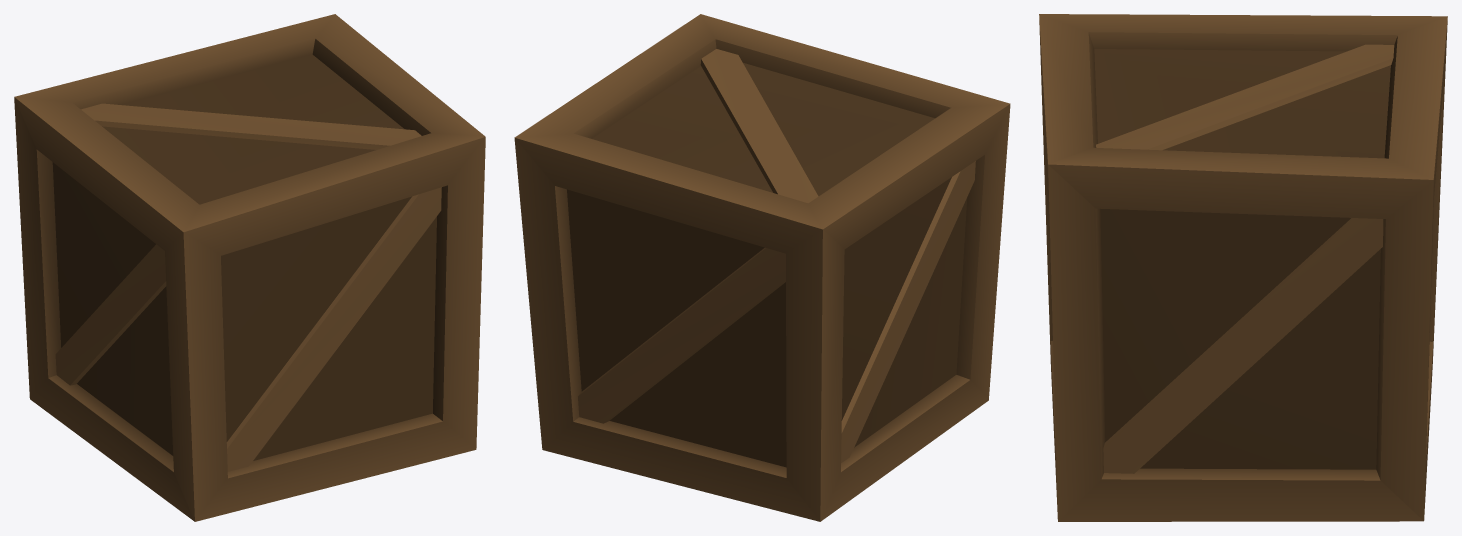
File: obj_crate_LOW.FBX
The picture shows the model from 3 angles, left to right: view 1: azimuth 30°, elevation 25°; view 2: azimuth 150°, elevation 25°; view 3: azimuth 270°, elevation 25°; orthographic projection. The views are drawn at different scales.
Parts seen in each view (by area): view 1: obj_crate_LOW; view 2: obj_crate_LOW; view 3: obj_crate_LOW.
Part boxes in pixels (bbox=[...]): obj_crate_LOW: bbox=[14, 14, 485, 521]; obj_crate_LOW: bbox=[514, 14, 1010, 521]; obj_crate_LOW: bbox=[1039, 14, 1447, 521].
Bounding box in the file's own units: 1.49 × 1.39 × 1.42.
